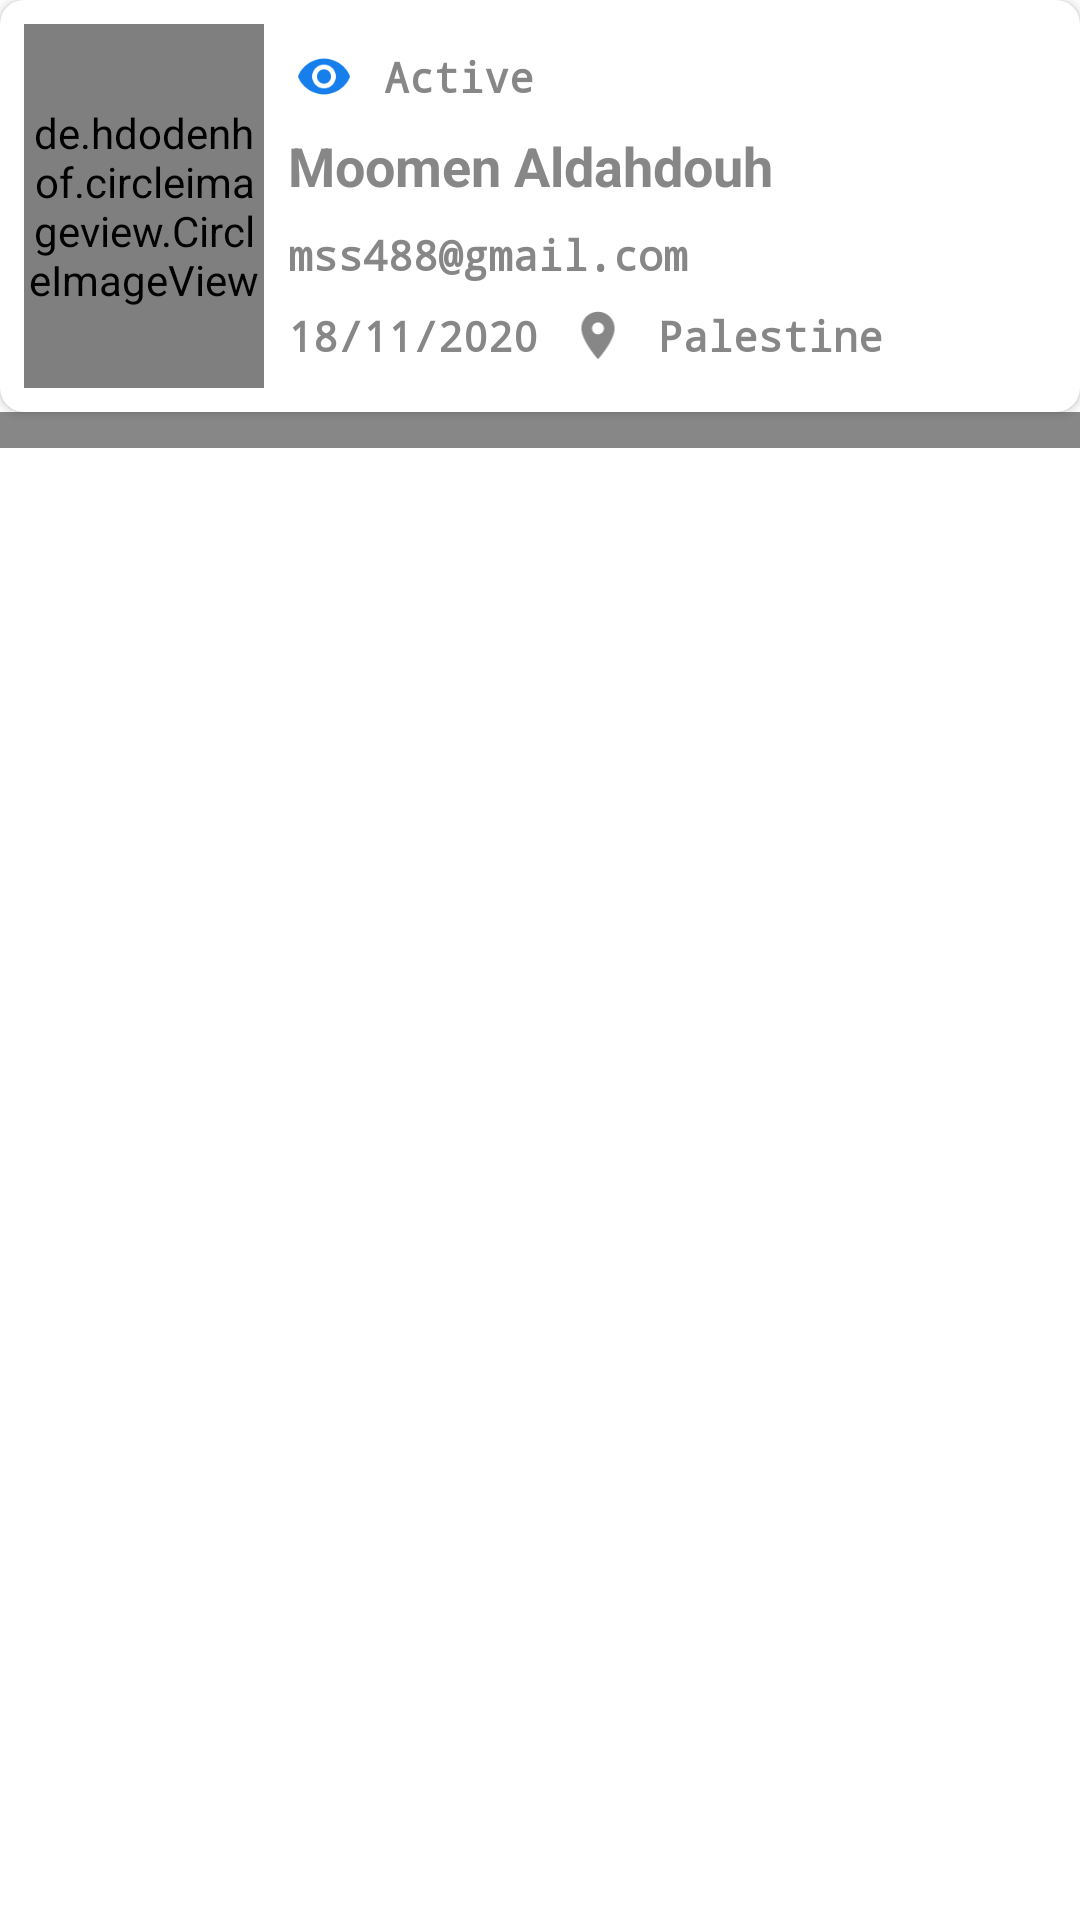

Icons on this 1080px x 1920px Android screen, each with the point to tap as (x=x, y=y):
location on: (x=598, y=335)
visibility: (x=324, y=76)
